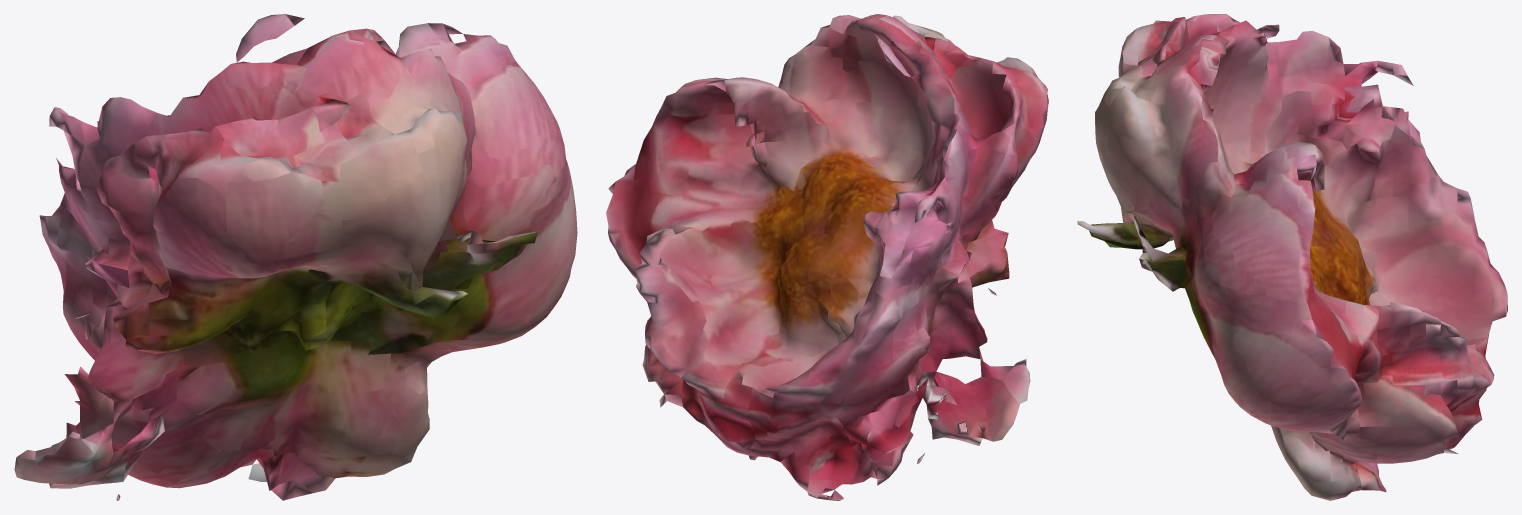
3 renders of one model, left to right at view 1: azimuth 30°, elevation 25°; view 2: azimuth 150°, elevation 25°; view 3: azimuth 270°, elevation 25°, orthographic. The views are drawn at different scales.
Parts seen in each view (by area): view 1: 362706d5; view 2: 362706d5; view 3: 362706d5.
Boxes of the visible parts, bbox=[...] form: 362706d5: bbox=[14, 14, 577, 500]; 362706d5: bbox=[606, 14, 1048, 500]; 362706d5: bbox=[1077, 14, 1507, 500].
Bounding box in the file's own units: 0.1207 × 0.1123 × 0.1023.
Materials: 1 (1 with a texture image).
